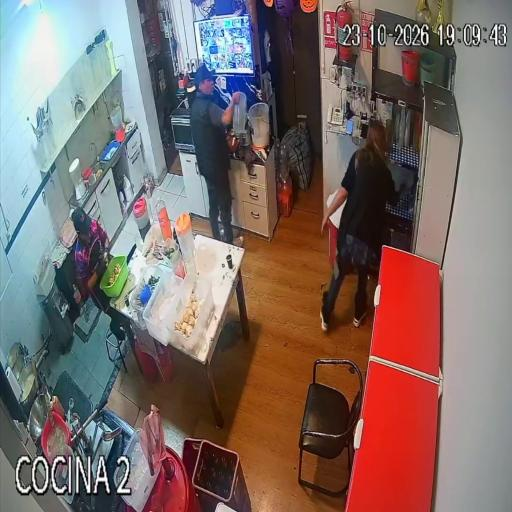Balde: (249, 102, 270, 148)
CajaCerveza: (182, 438, 251, 512)
Jarra1: (133, 197, 150, 238)
Jarra2: (175, 213, 195, 260)
Jarra3: (233, 93, 247, 135)
Jarra4: (110, 101, 123, 132)
Jarra5: (114, 430, 158, 512), (69, 158, 86, 199)
Microondas: (170, 109, 195, 152)
Persona1: (190, 65, 240, 243)
Persona2: (320, 123, 398, 329)
Persona4: (71, 208, 125, 344)
Taper: (100, 256, 127, 297)
Taper2: (129, 265, 171, 329)
Taper3: (143, 271, 183, 346)
Taper4: (166, 274, 213, 356)
